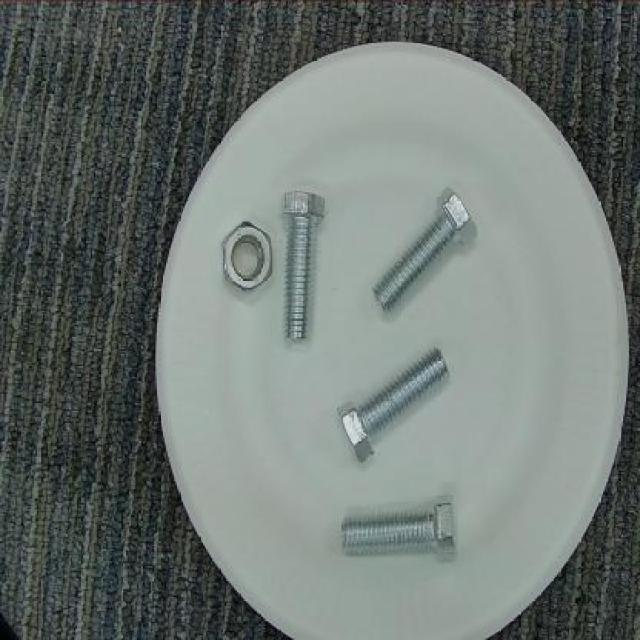Bolt: (336, 342, 459, 471), (368, 184, 479, 316), (272, 186, 334, 346), (334, 497, 465, 572)
Nut: (220, 217, 276, 297)
